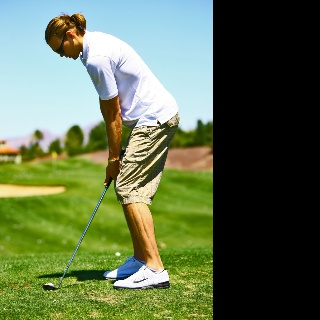without_mask: (48, 34, 80, 59)
